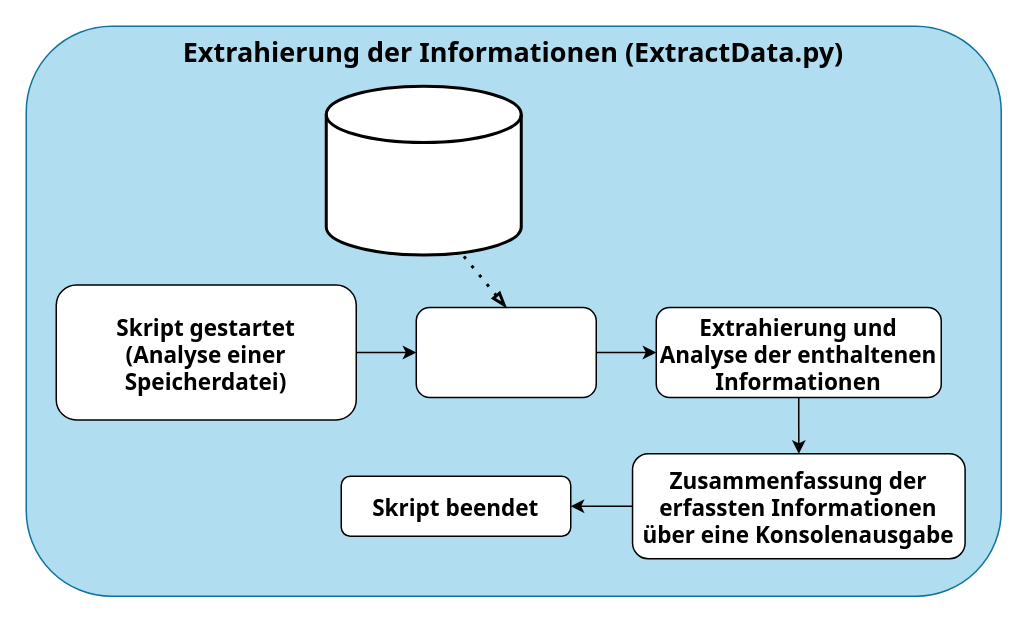
The diagram is 1028 pixels wide and 623 high, and some of its shapes have lost their labels. The centre of each missing label's shape, as x and y in pixels:
Auswahl einer Speicherdatei: (x=505, y=352)
Menge an Speicherdateien: (x=423, y=170)
